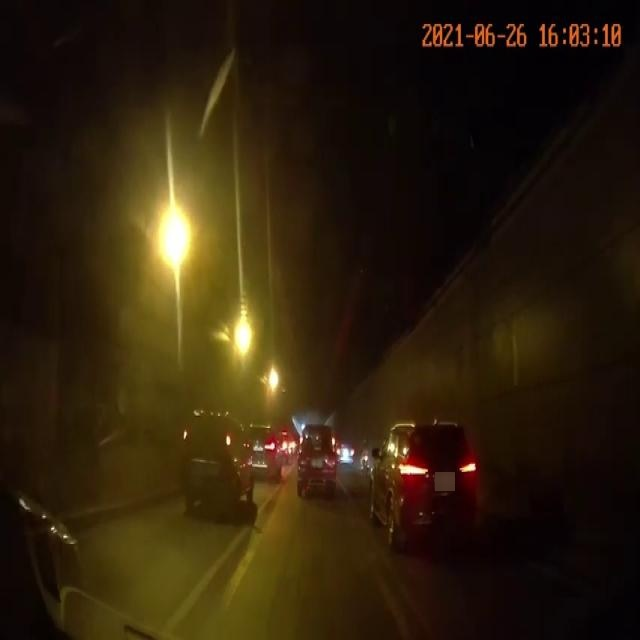car: (370, 425, 489, 549), (179, 407, 253, 521), (298, 412, 338, 500), (244, 419, 284, 479)
motorcycle: (360, 435, 370, 477)
